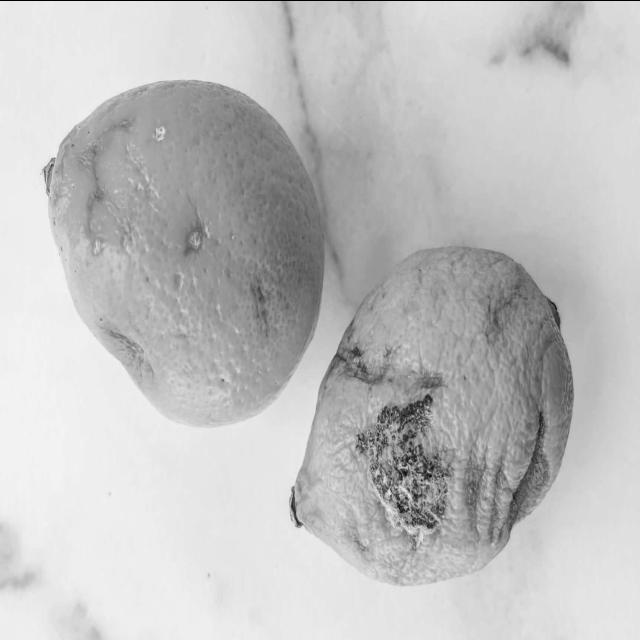Rotten: (42, 74, 326, 425), (290, 242, 573, 580)
